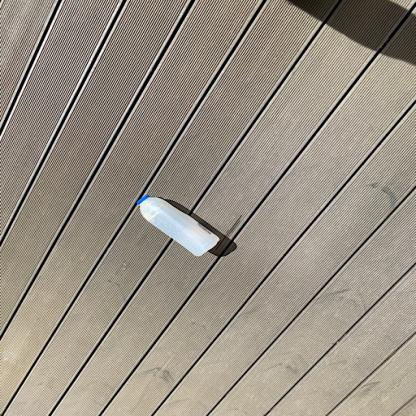trash: (135, 190, 224, 260)
